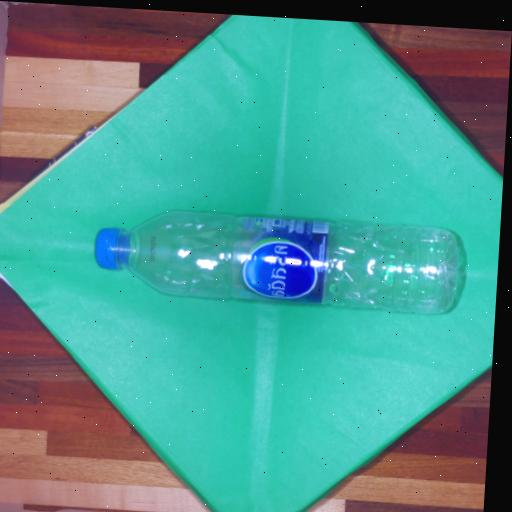bottle: (95, 212, 459, 314)
